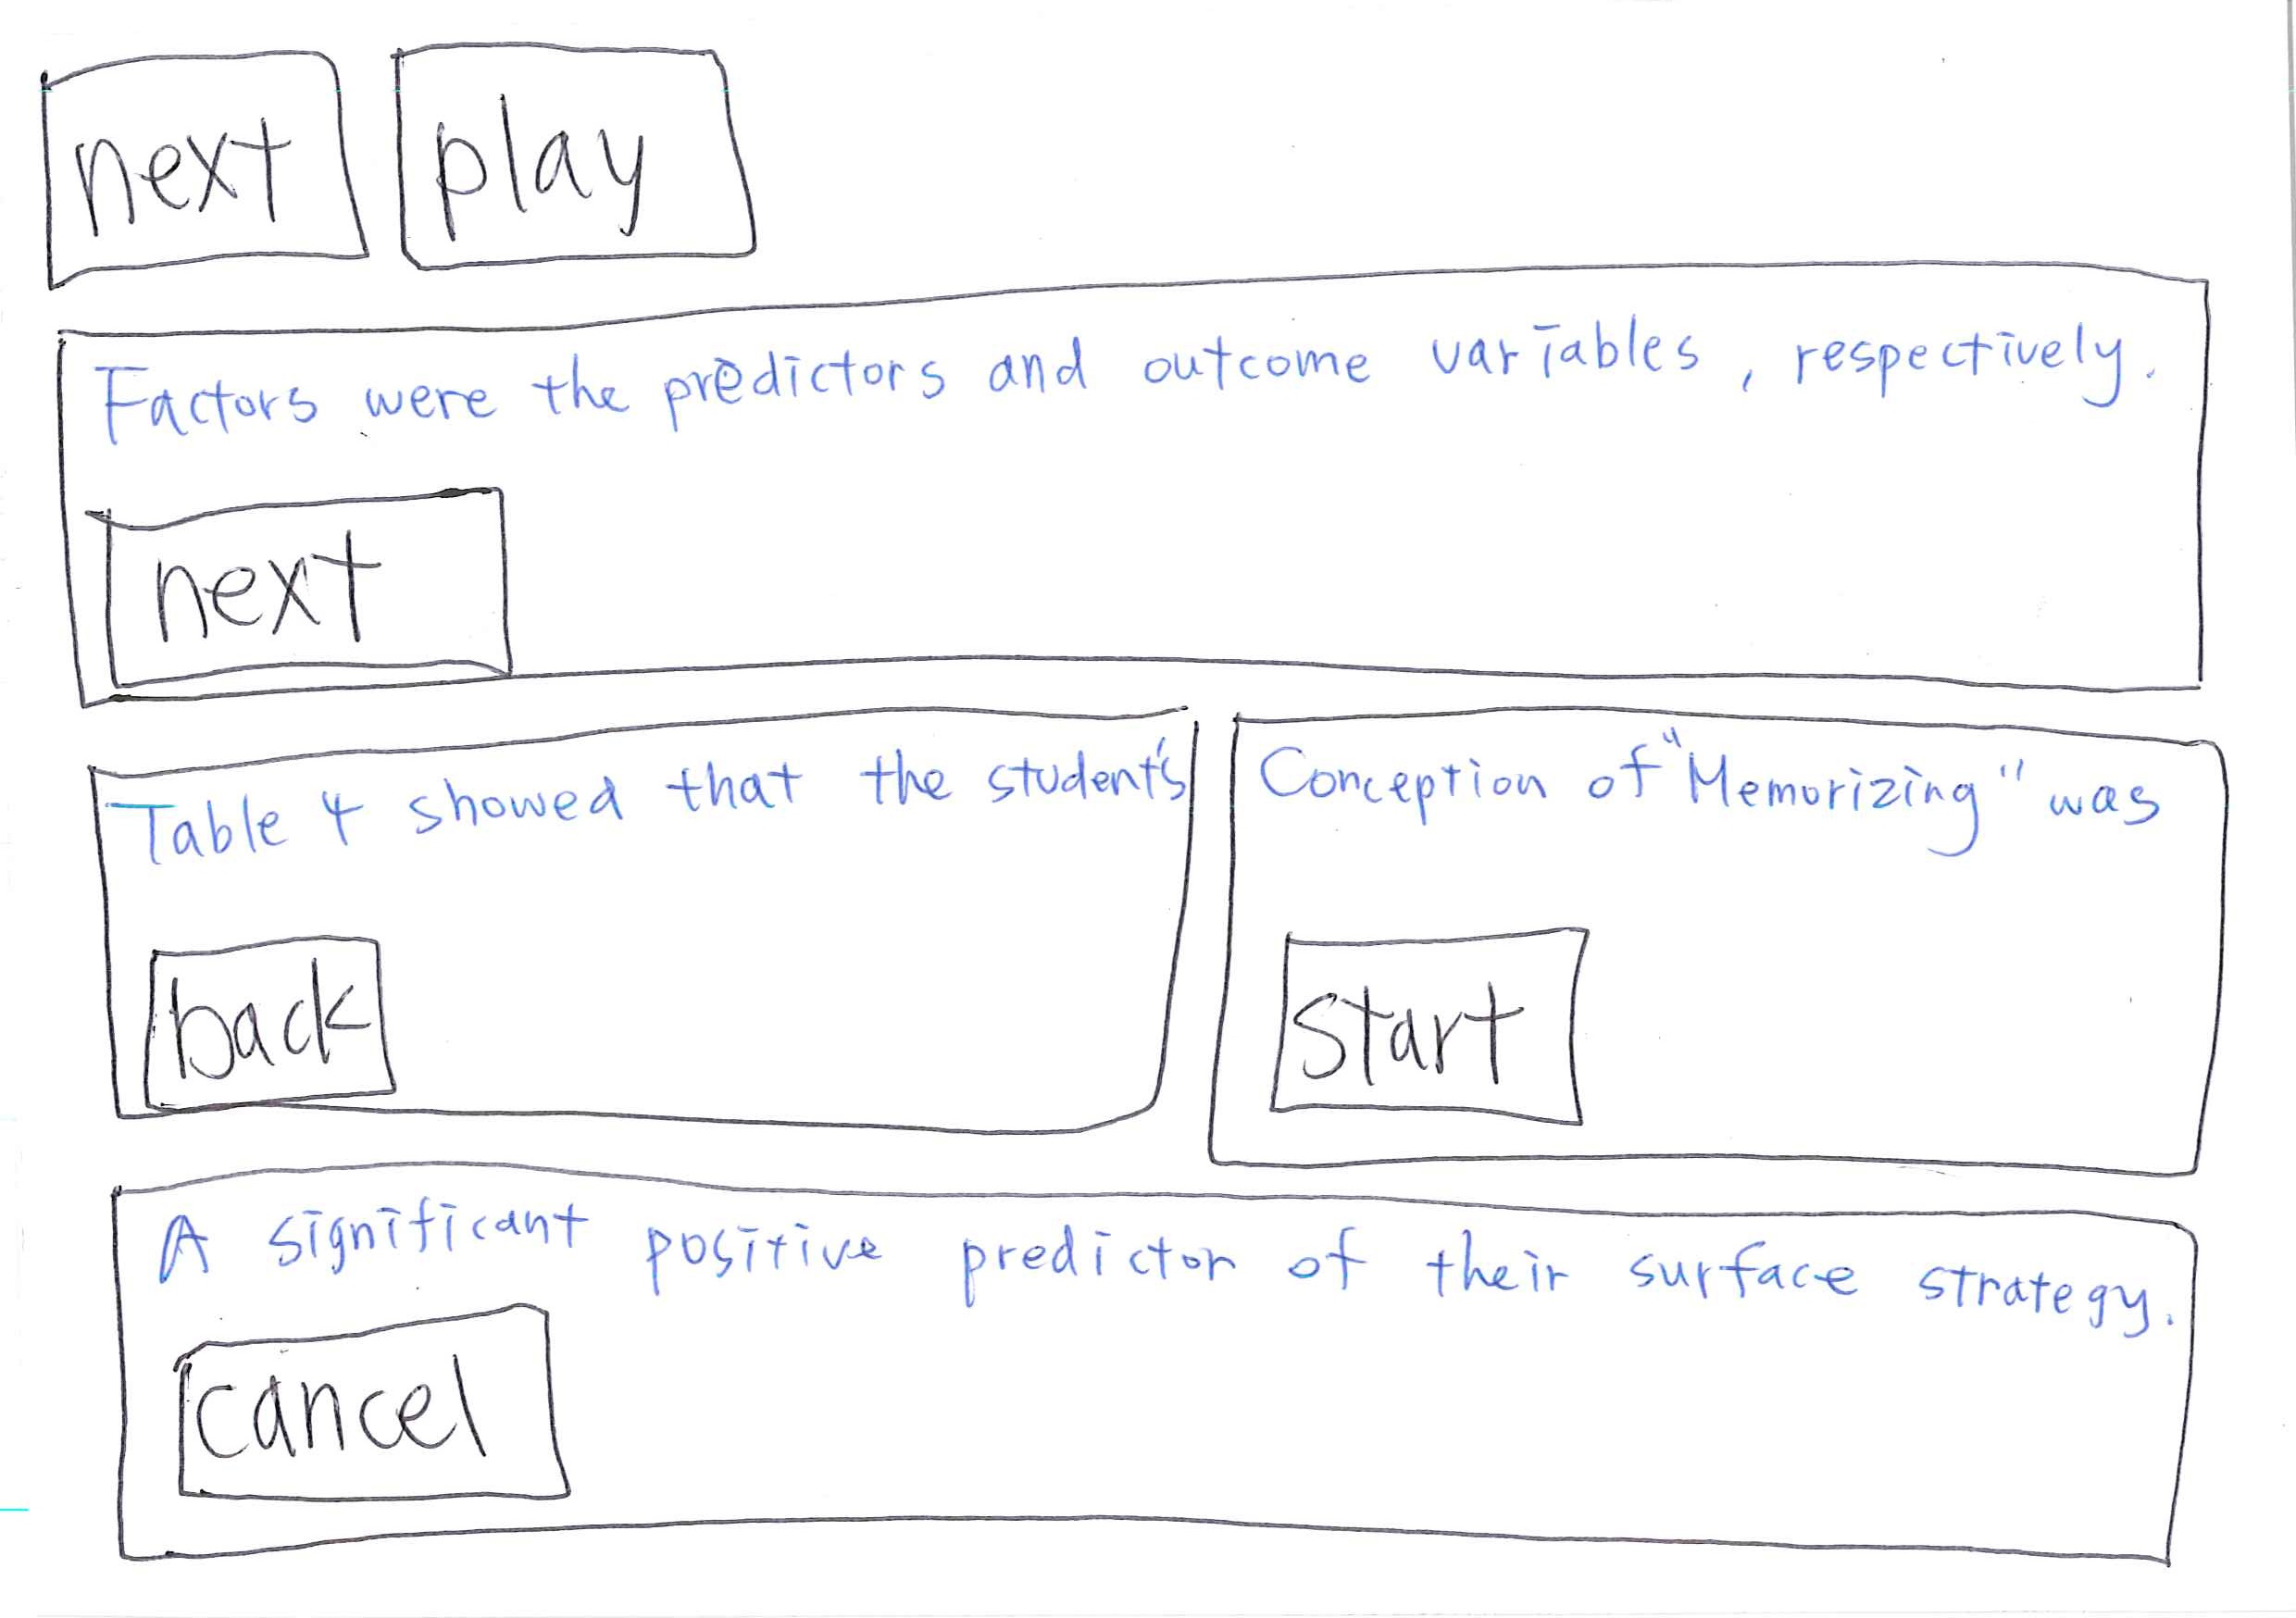back: (131, 919, 415, 1124)
cancel: (149, 1284, 595, 1516)
double: (21, 690, 1214, 1156), (1180, 690, 2268, 1184)
next: (370, 25, 788, 296), (61, 473, 538, 693), (12, 21, 375, 289)
row: (23, 692, 2296, 1201), (23, 236, 2296, 714), (23, 1180, 2296, 1562), (23, 5, 2296, 292)
single: (16, 233, 2296, 718), (28, 1124, 2284, 1602)
small-title: (121, 317, 2205, 466), (184, 1210, 2151, 1336), (1268, 727, 2212, 870), (116, 748, 1149, 844)
start: (1252, 904, 1618, 1156)
